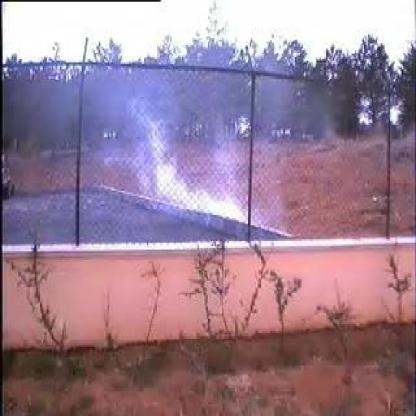-: (122, 96, 252, 214)
